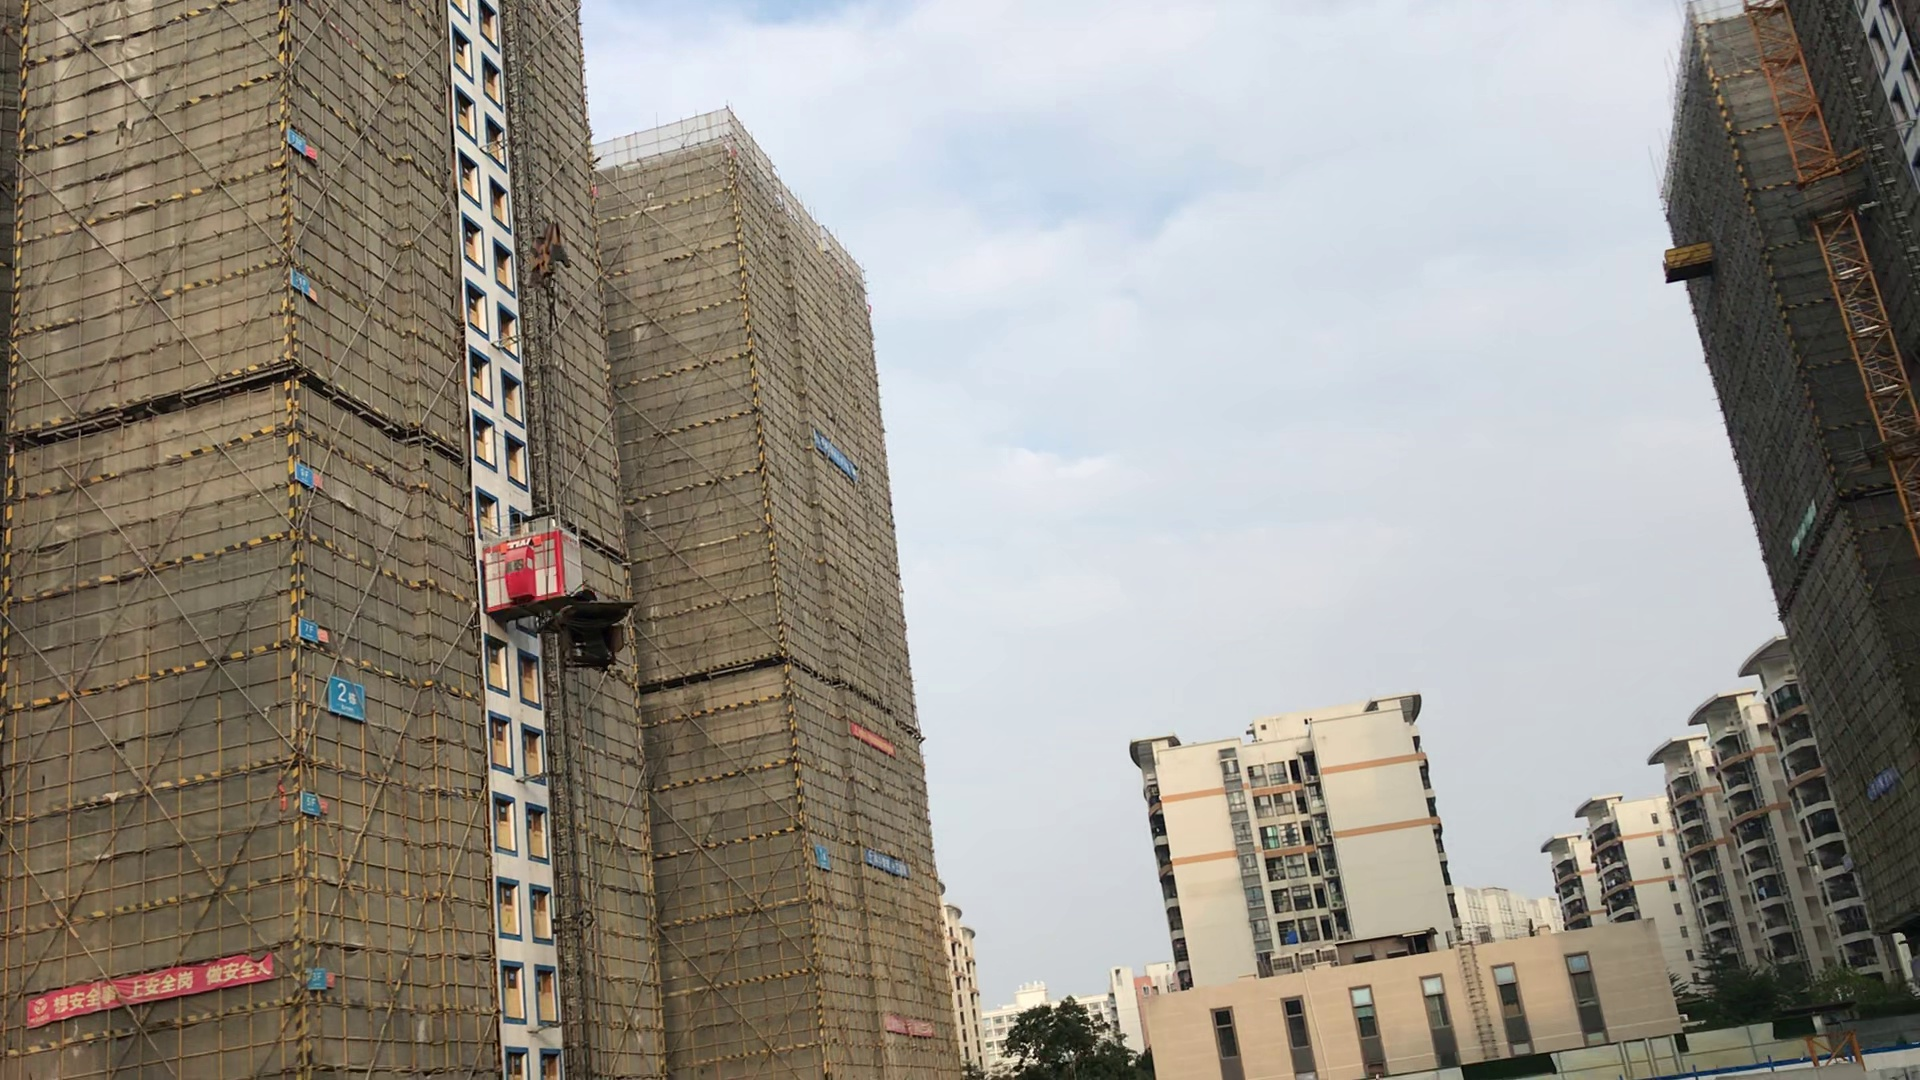hook: (529, 216, 572, 289)
slogan: (26, 953, 270, 1030), (815, 433, 856, 476), (849, 723, 898, 756), (865, 849, 914, 880), (887, 1011, 936, 1038)
